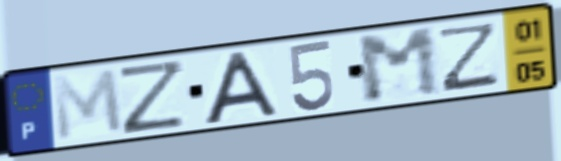5: (286, 37, 337, 113)
A: (200, 48, 283, 128)
M: (353, 25, 445, 108), (49, 65, 128, 144)
Z: (115, 56, 189, 137), (438, 19, 501, 95)
